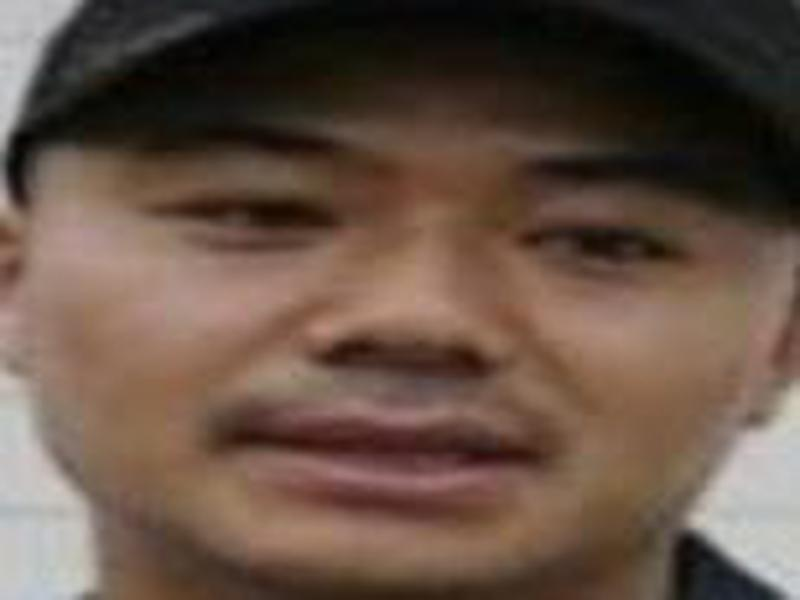without_mask: (15, 84, 791, 581)
